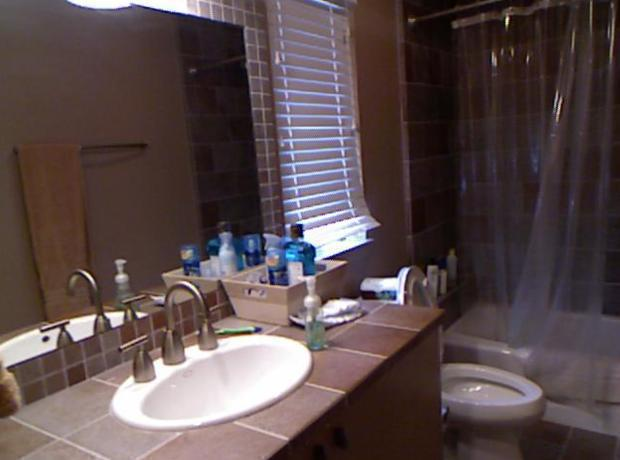Lavamanos: (112, 277, 318, 441)
Sanitario: (374, 264, 546, 456)
